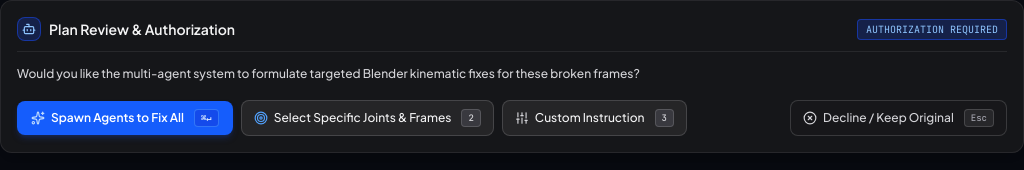
Test: ConsentPromptCard › approves repair plan directly on Spawn Multi-Agents click
This screenshot has width=1024, height=170.
Click the button with test id "spawn-agents-btn": (125, 118) [17,100,233,134]
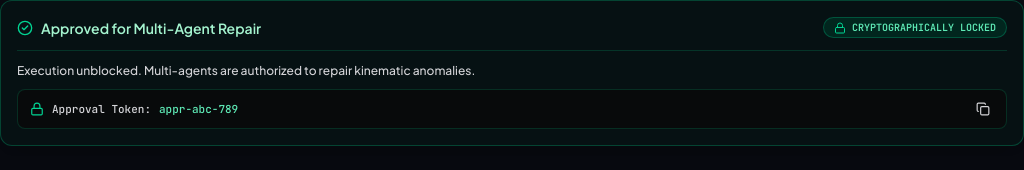
Now the text "Approved for Multi-Agent Repair" is shown, box [41,18,261,38]
Now the text with test id "approval-id" reads "appr-abc-789", box [159,102,238,116]
